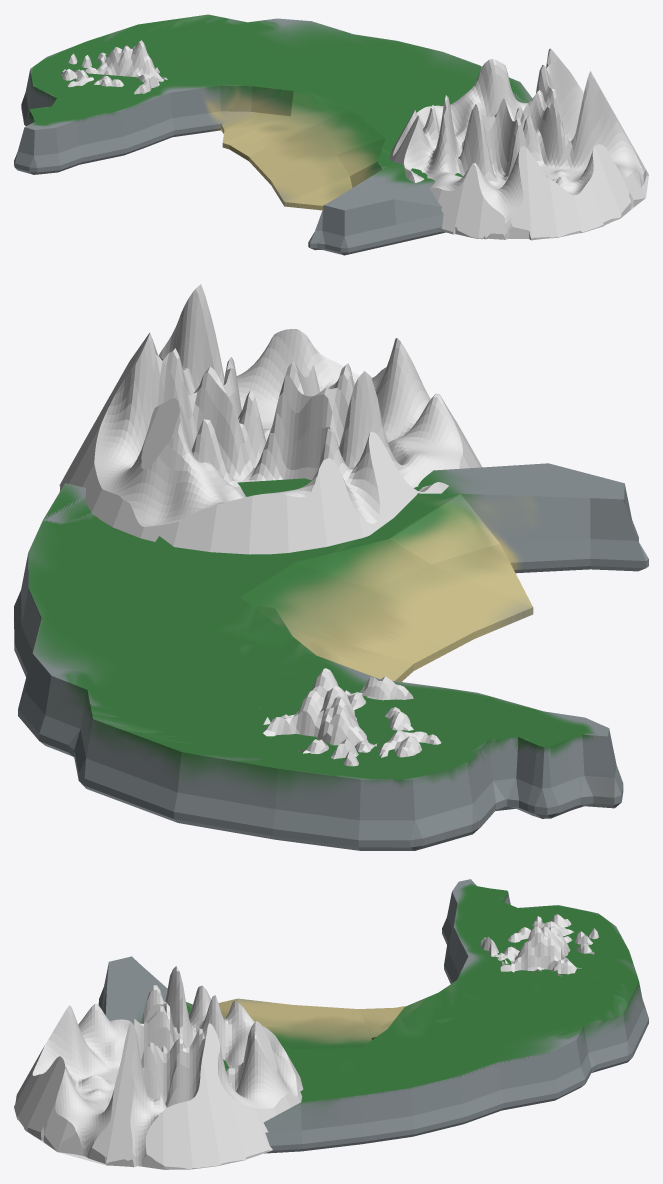
The model's file is Isle.fbx.
3 renders of one model, top to bottom at view 1: azimuth 30°, elevation 25°; view 2: azimuth 150°, elevation 25°; view 3: azimuth 270°, elevation 25°, orthographic. The views are drawn at different scales.
Parts seen in each view (by area): view 1: isle, mountainsR, mountainsL; view 2: isle, mountainsR, mountainsL; view 3: isle, mountainsR, mountainsL.
Boxes of the visible parts, left/top/right/bottom form: isle: left=14, top=14, right=532, bottom=255; mountainsR: left=389, top=48, right=648, bottom=240; mountainsL: left=61, top=40, right=167, bottom=94; isle: left=14, top=463, right=648, bottom=850; mountainsR: left=59, top=284, right=481, bottom=554; mountainsL: left=263, top=668, right=441, bottom=766; isle: left=98, top=879, right=648, bottom=1153; mountainsR: left=14, top=966, right=303, bottom=1169; mountainsL: left=480, top=914, right=598, bottom=976.
Size of the model in its own units: 297 by 314 by 77.96.
